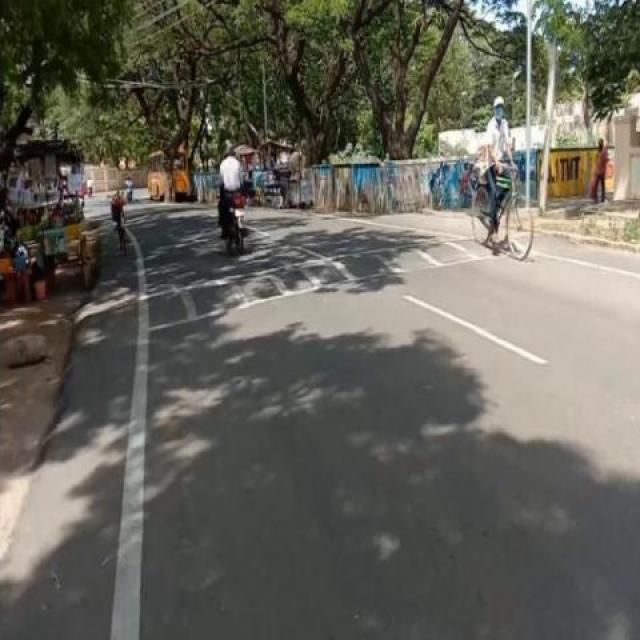Speed Bump: (88, 230, 563, 333)
